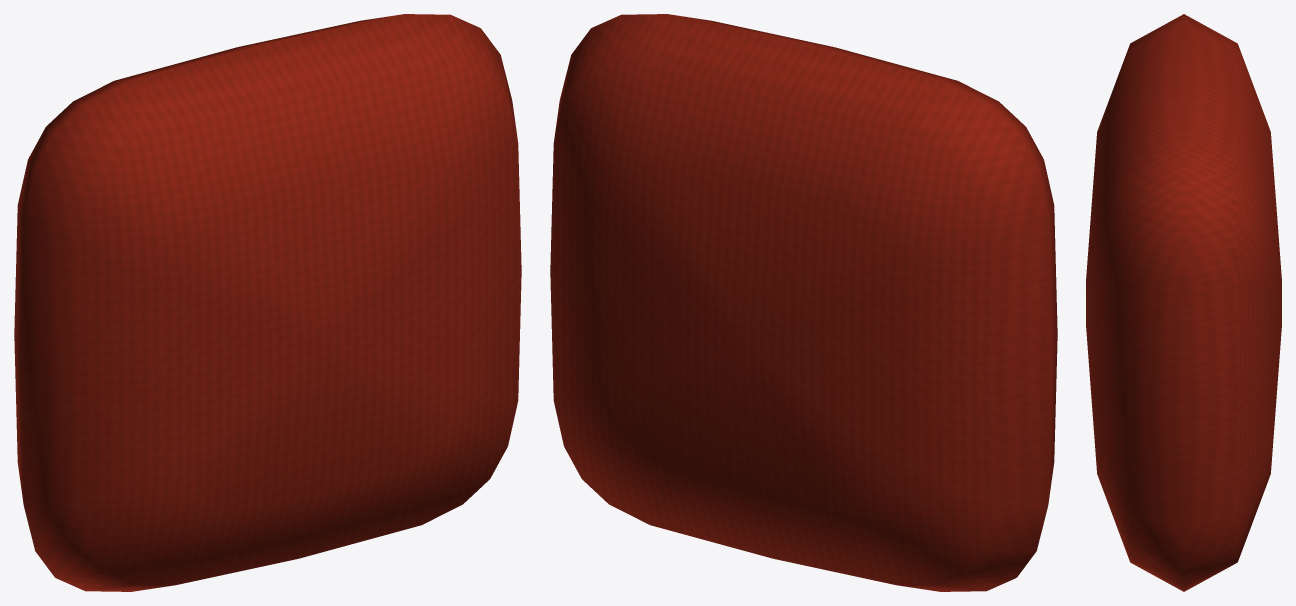
3 renders of one model, left to right at view 1: azimuth 30°, elevation 25°; view 2: azimuth 150°, elevation 25°; view 3: azimuth 270°, elevation 25°, orthographic. The views are drawn at different scales.
Parts seen in each view (by area): view 1: Optional loose softly stuffed square cushion; view 2: Optional loose softly stuffed square cushion; view 3: Optional loose softly stuffed square cushion.
Part boxes in pixels (bbox=[...]): Optional loose softly stuffed square cushion: bbox=[14, 14, 521, 591]; Optional loose softly stuffed square cushion: bbox=[550, 14, 1057, 591]; Optional loose softly stuffed square cushion: bbox=[1086, 14, 1281, 591].
Size of the model in its own units: 0.3606 by 0.3606 by 0.142.
Materials: 1 (1 with a texture image).
